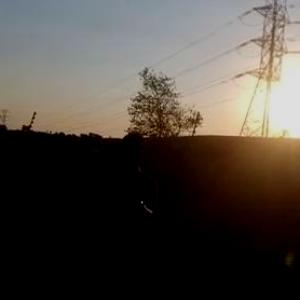follow: (93, 128, 167, 299)
